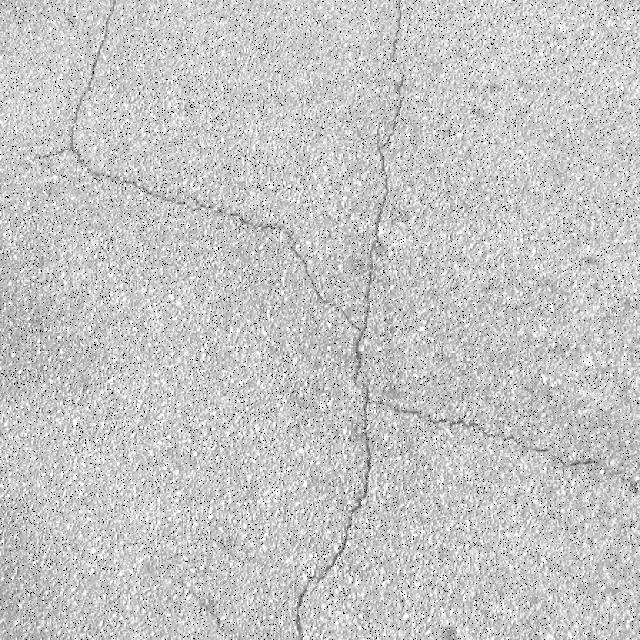Crack: (36, 4, 636, 639), (189, 590, 225, 637)
